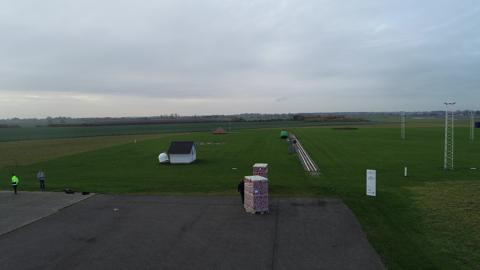RockwoolPallet: (253, 162, 270, 176)
